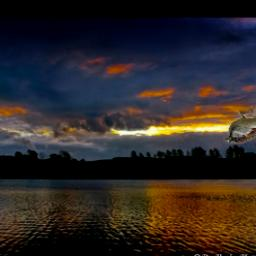Sparrow: (224, 107, 256, 144)
